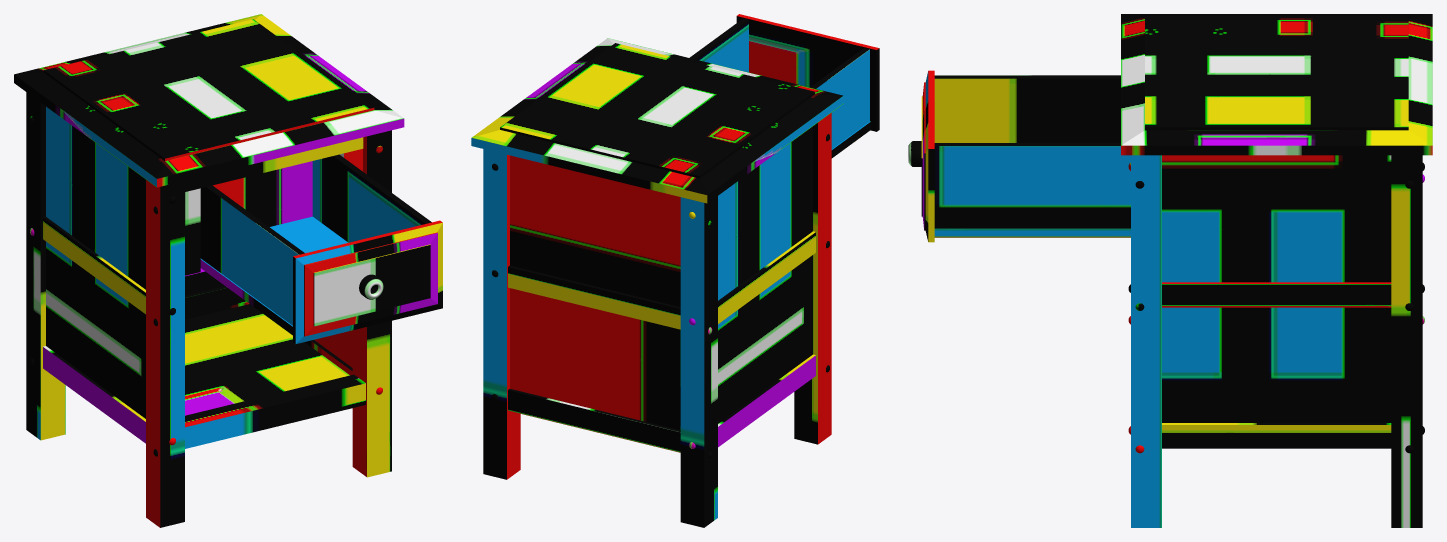
File: Drawer.fbx
3 views of the same model, side by side, from view 1: azimuth 30°, elevation 25°; view 2: azimuth 150°, elevation 25°; view 3: azimuth 270°, elevation 25° (orthographic). The views are drawn at different scales.
Visible parts, largest first — view 1: Drawer, DrawerDoor; view 2: Drawer, DrawerDoor; view 3: Drawer, DrawerDoor.
Part boxes in pixels (box(x1,y1,x2,y2)): Drawer: box(14, 14, 404, 527); DrawerDoor: box(200, 154, 442, 343); Drawer: box(471, 38, 843, 527); DrawerDoor: box(689, 14, 879, 158); Drawer: box(1121, 14, 1432, 527); DrawerDoor: box(908, 70, 1130, 242).
Bounding box in the file's own units: 2392 × 3342 × 4024.
